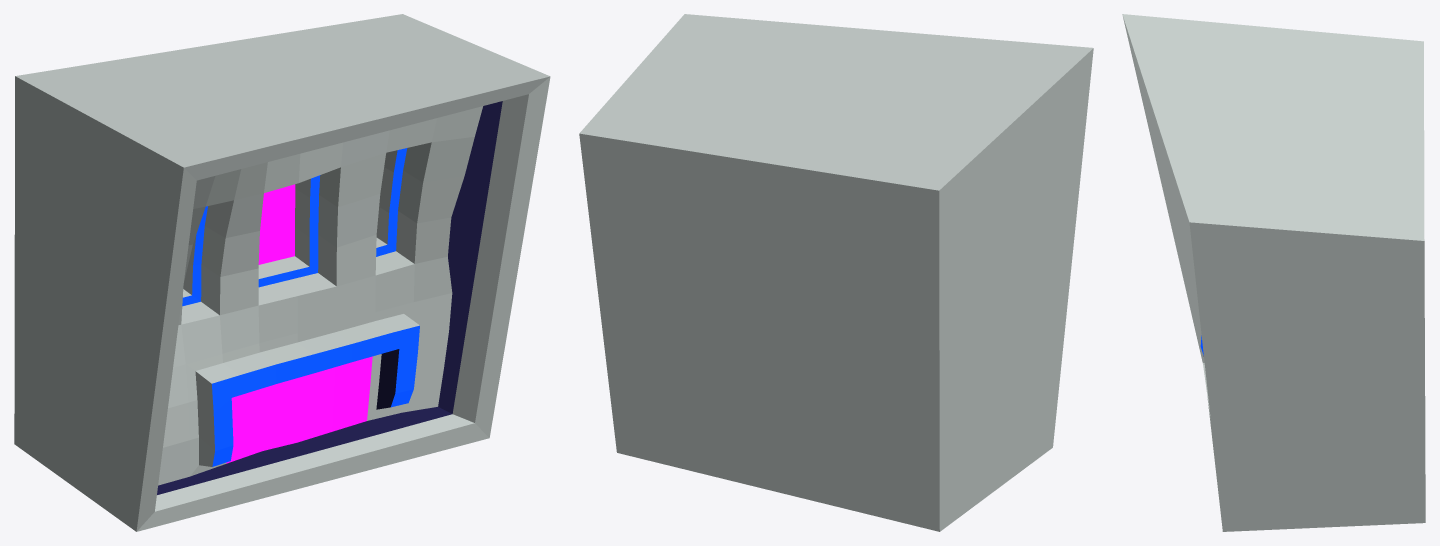
File: buildingsquare.fbx
3 views of the same model, side by side, from view 1: azimuth 30°, elevation 25°; view 2: azimuth 150°, elevation 25°; view 3: azimuth 270°, elevation 25° (orthographic). The views are drawn at different scales.
Parts seen in each view (by area): view 1: Cube; view 2: Cube; view 3: Cube.
Part boxes in pixels (box(x1,y1,x2,y2)): Cube: box(14, 14, 550, 531); Cube: box(579, 14, 1093, 531); Cube: box(1122, 14, 1425, 531).
Bounding box in the file's own units: 659 × 621 × 475.
